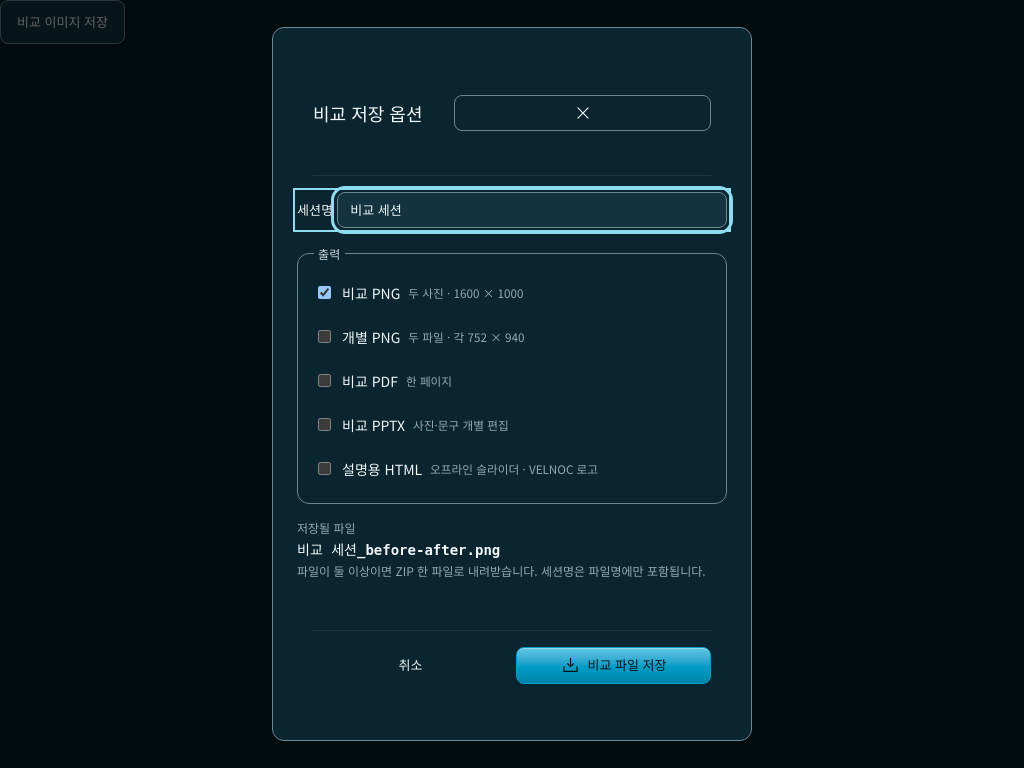
comparison export dialog › previews one ZIP when 비교 PDF joins the default PNG
another format is selected.
Click the checkbox labelled "비교 PDF" at (324, 381), box 318,374 -> 331,387
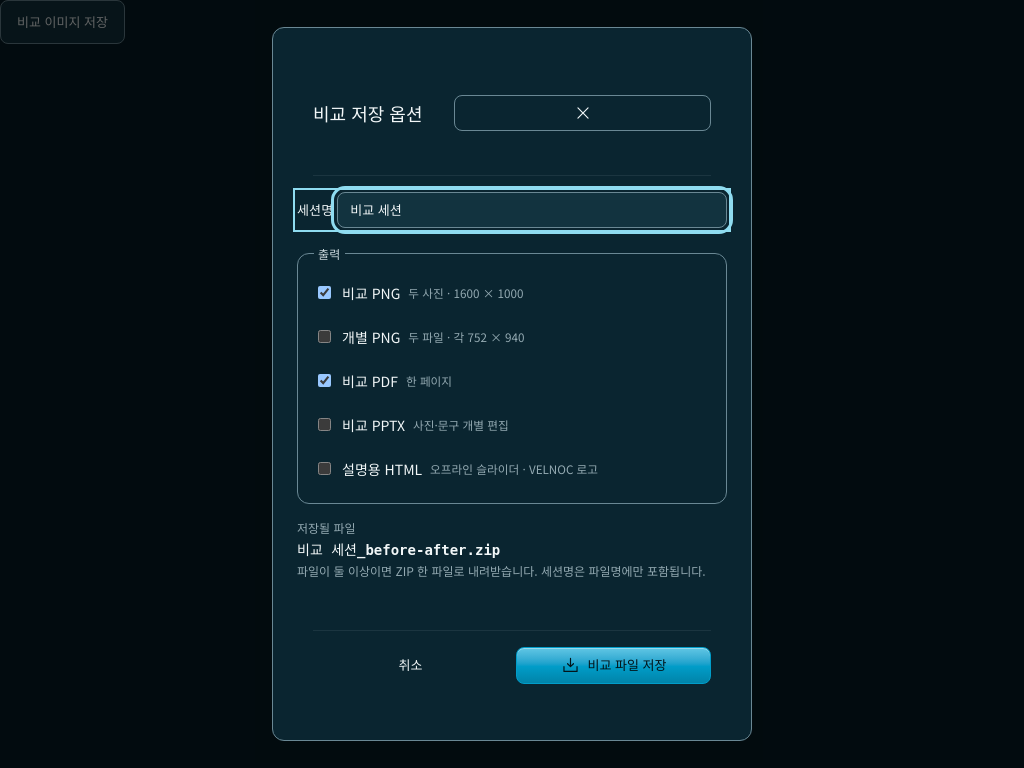
Check: the dialog "비교 저장 옵션" is shown, box 272,27 -> 752,741
Check: the text "비교 세션_before-after.zip" is shown, box 297,542 -> 500,558
